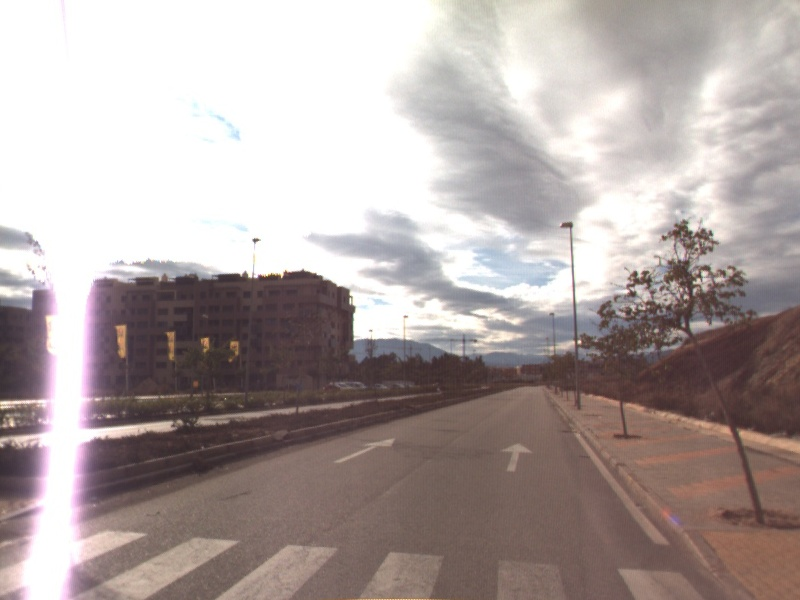STRAIGHT: (332, 436, 398, 465), (498, 441, 535, 473)
